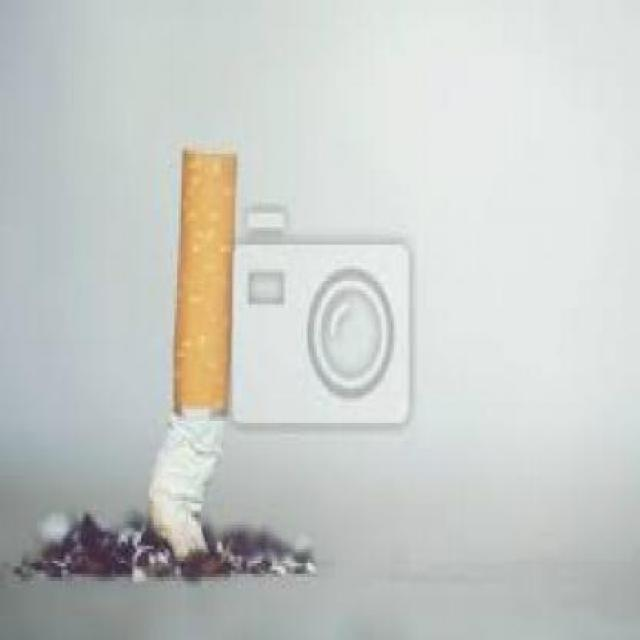cigarette: (160, 77, 226, 615)
